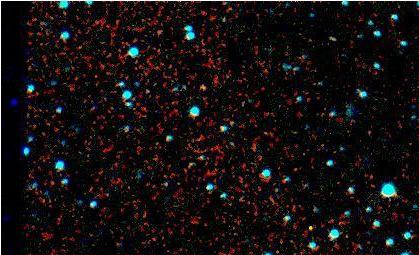star: (299, 215, 329, 245)
